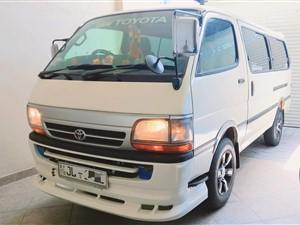van: (25, 4, 293, 223)
